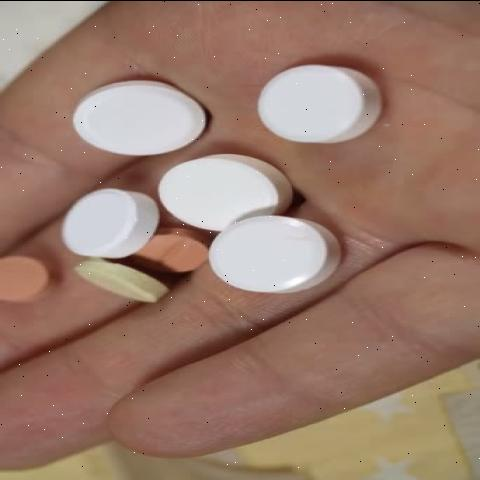Pill: (44, 66, 210, 158), (232, 58, 404, 146), (202, 207, 351, 301), (148, 151, 302, 233), (48, 178, 164, 258)
